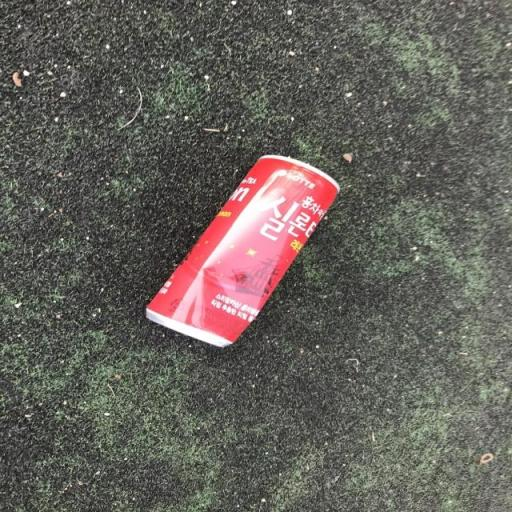metal: (122, 141, 380, 432)
